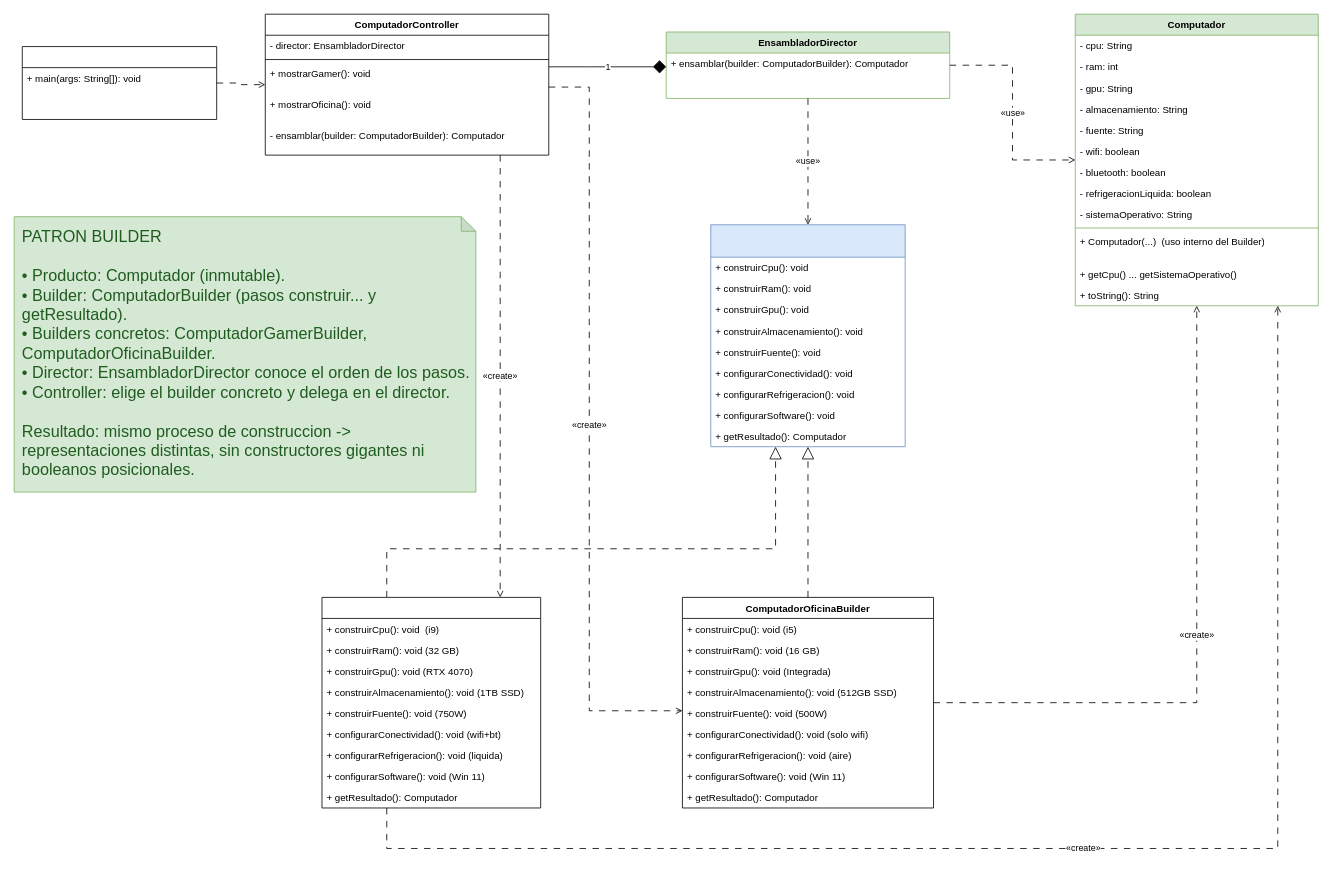
This 1332x869 diagram has some shape labels left out. The box of each missing label's shape, as (x1, y1, x2, y2) in pixels:
<<interface>> ComputadorBuilder: (710, 224, 905, 447)
ComputadorGamerBuilder: (321, 597, 541, 808)
DespuesMain: (21, 46, 217, 119)
